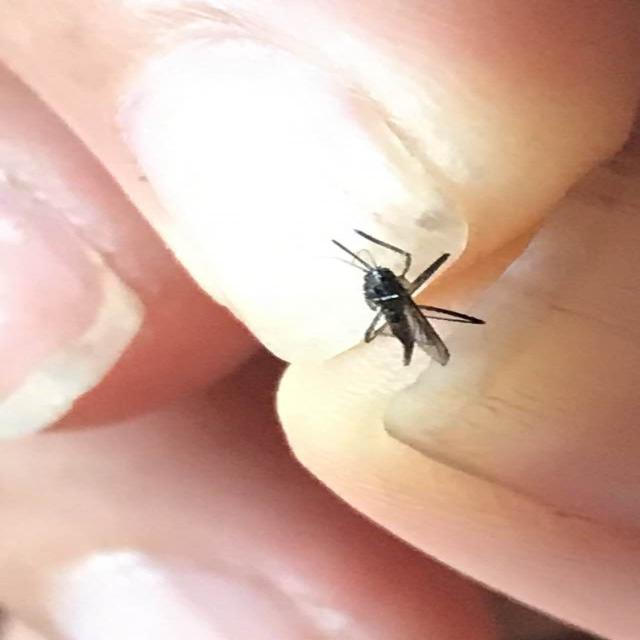albopictus: (310, 215, 494, 372)
